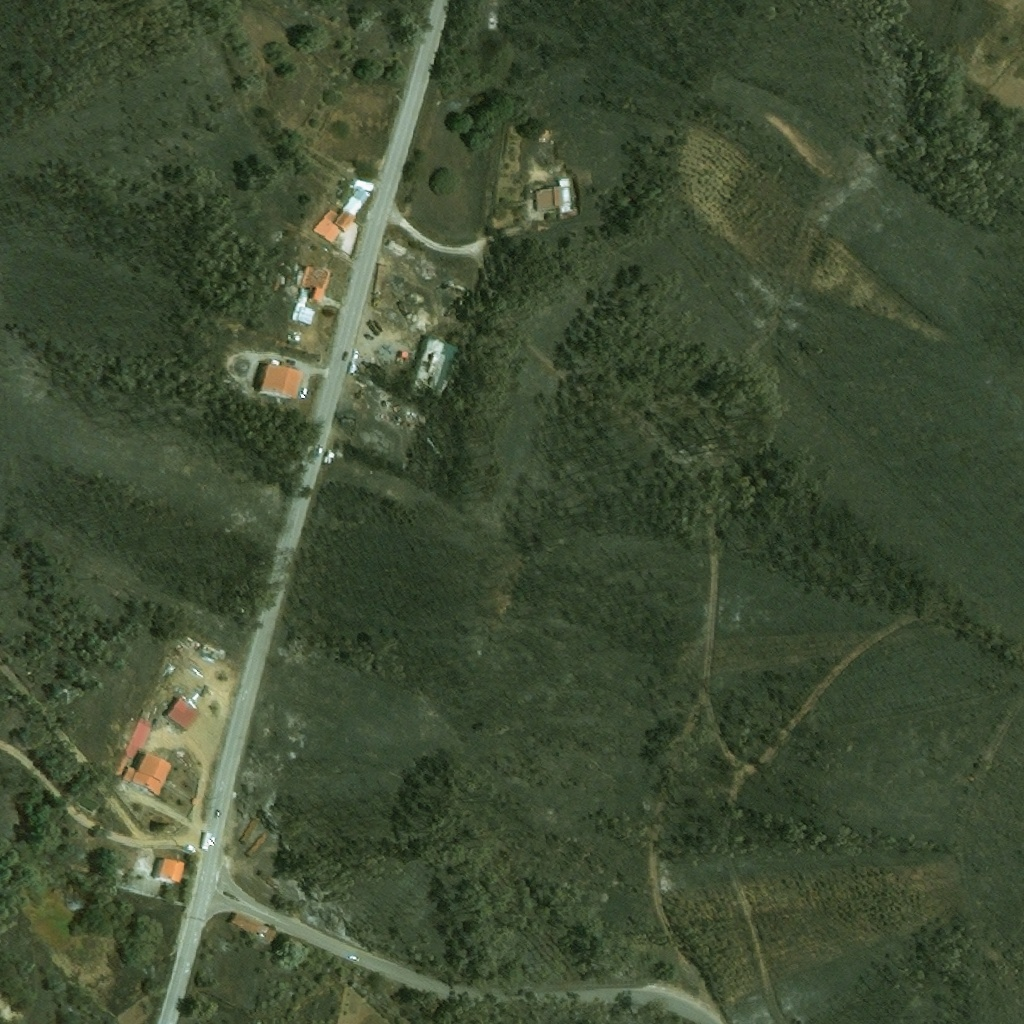0 no-damage: (407, 335, 461, 398), (322, 180, 375, 233), (121, 749, 175, 798), (255, 360, 307, 403), (229, 911, 281, 949), (533, 180, 575, 215), (164, 696, 200, 733), (124, 717, 153, 761), (152, 854, 187, 885), (292, 303, 316, 326), (239, 818, 259, 844), (321, 230, 338, 245), (190, 796, 199, 806)
1 minor-damage: (299, 264, 331, 304)
